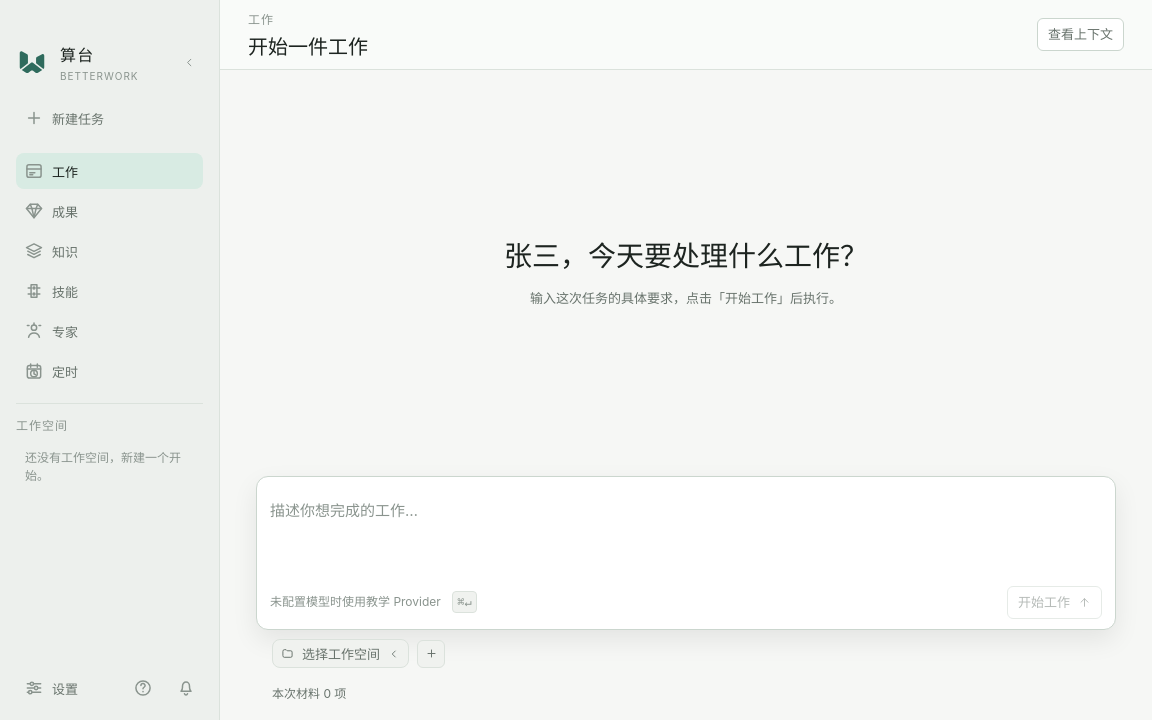
Test: 应用内帮助 › 保留任务草稿与已选技能，阅读手册不启动执行
Click the button "技能" at [110, 291], box [16,273,203,309]
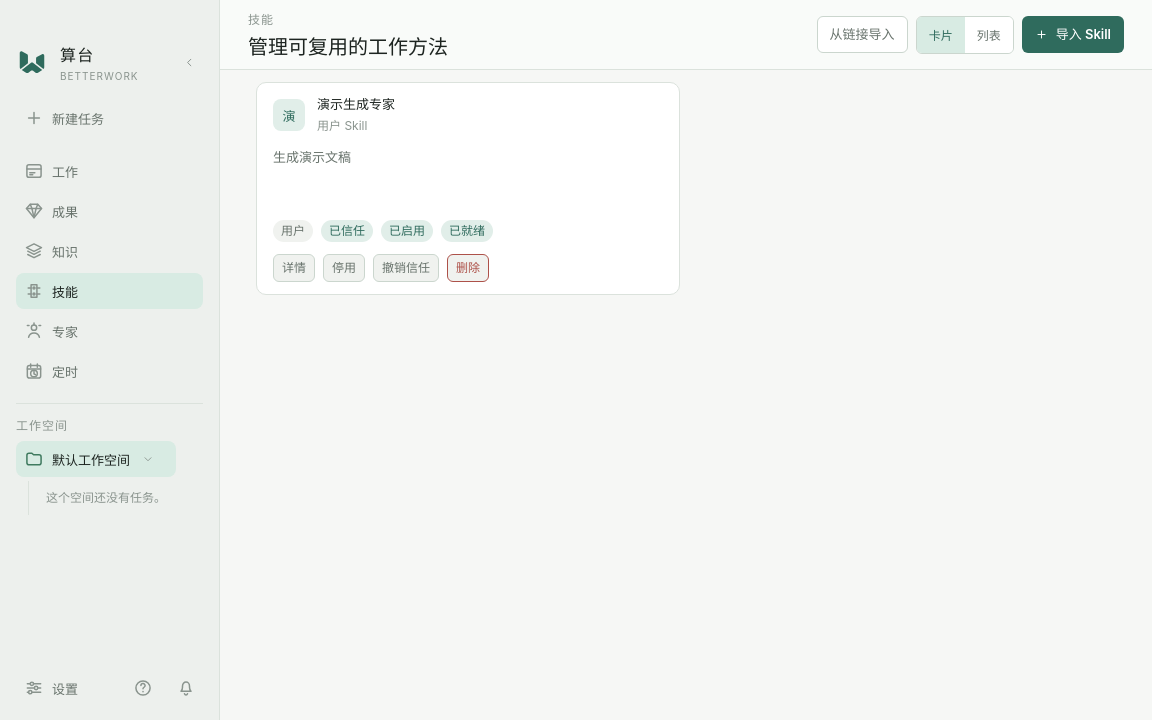
Click the button "演 演示生成专家 用户 Skill 生成演示文稿" at [289, 115], box [273,95,663,208]
(page scrolled)
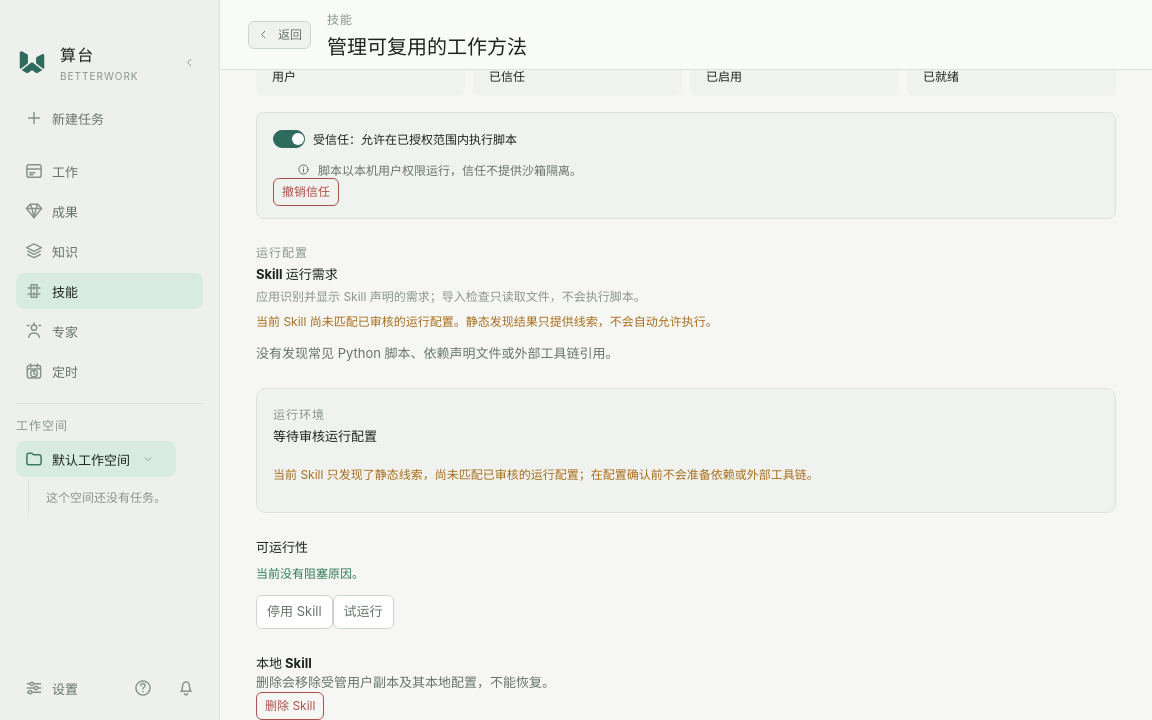
Click the button "试运行" at [363, 612], box [333,595,394,629]
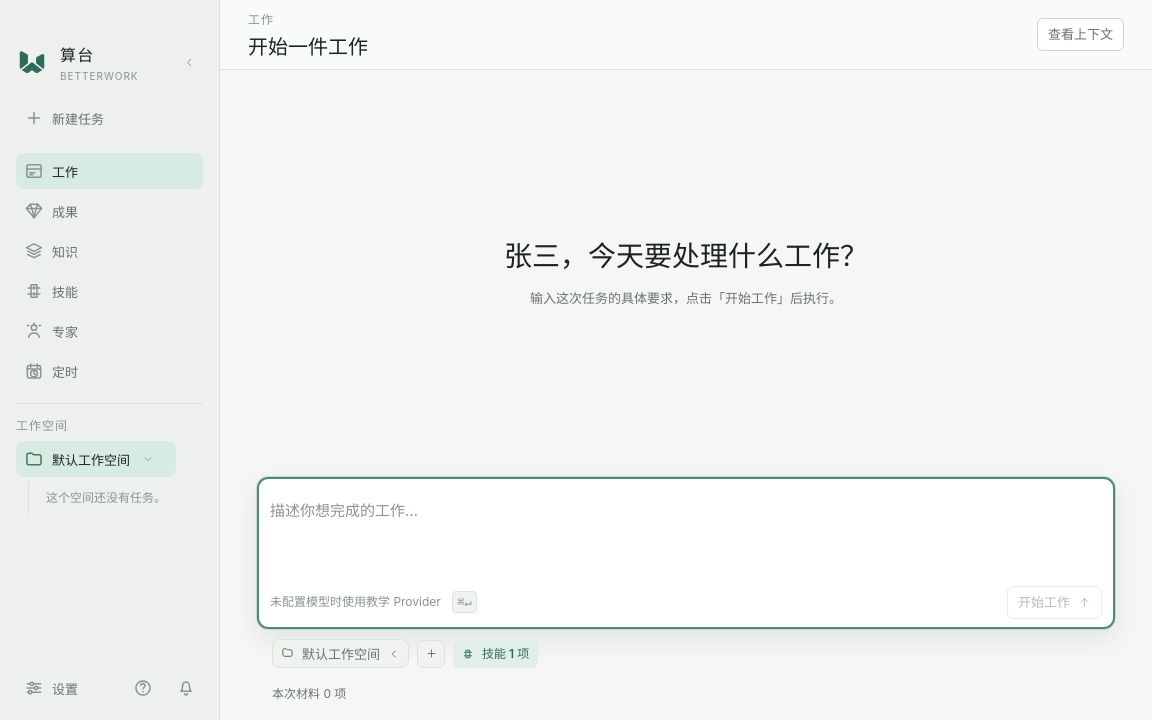
Expected: the button "技能 1 项" is shown, [453,640,538,668]
Type "待继续的任务草稿" into the text box named "任务输入" at [686, 534], box [270,488,1102,582]
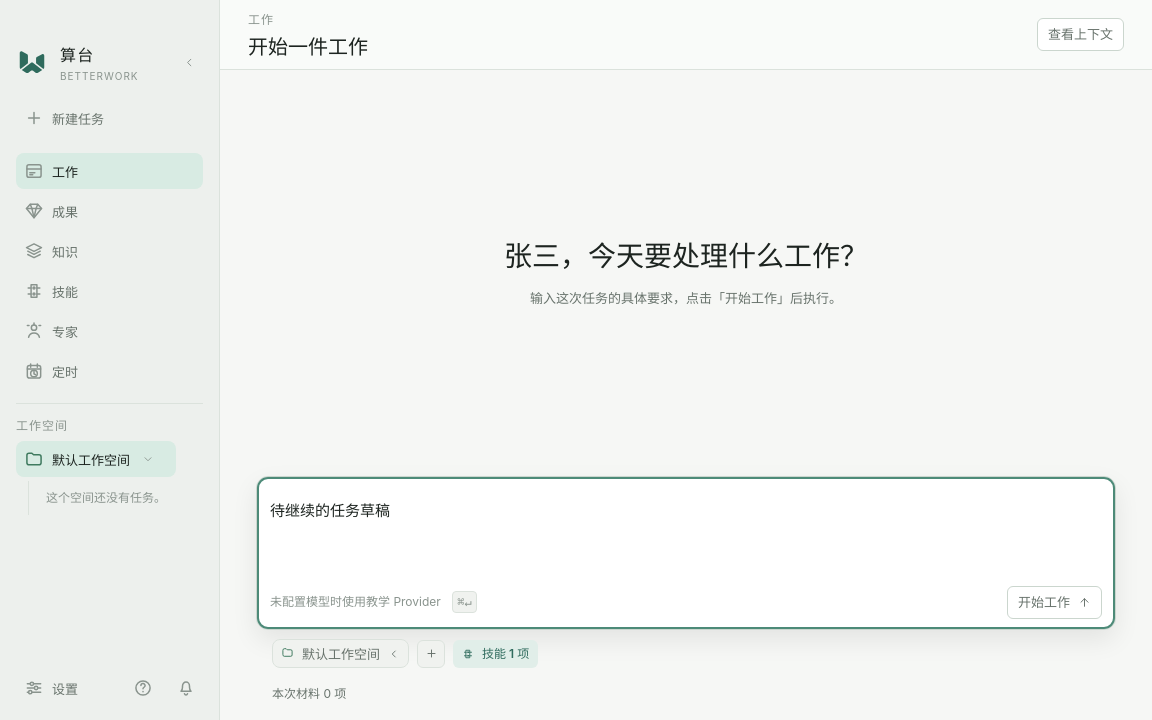
Click the button "帮助" at [143, 688], box [125,670,161,706]
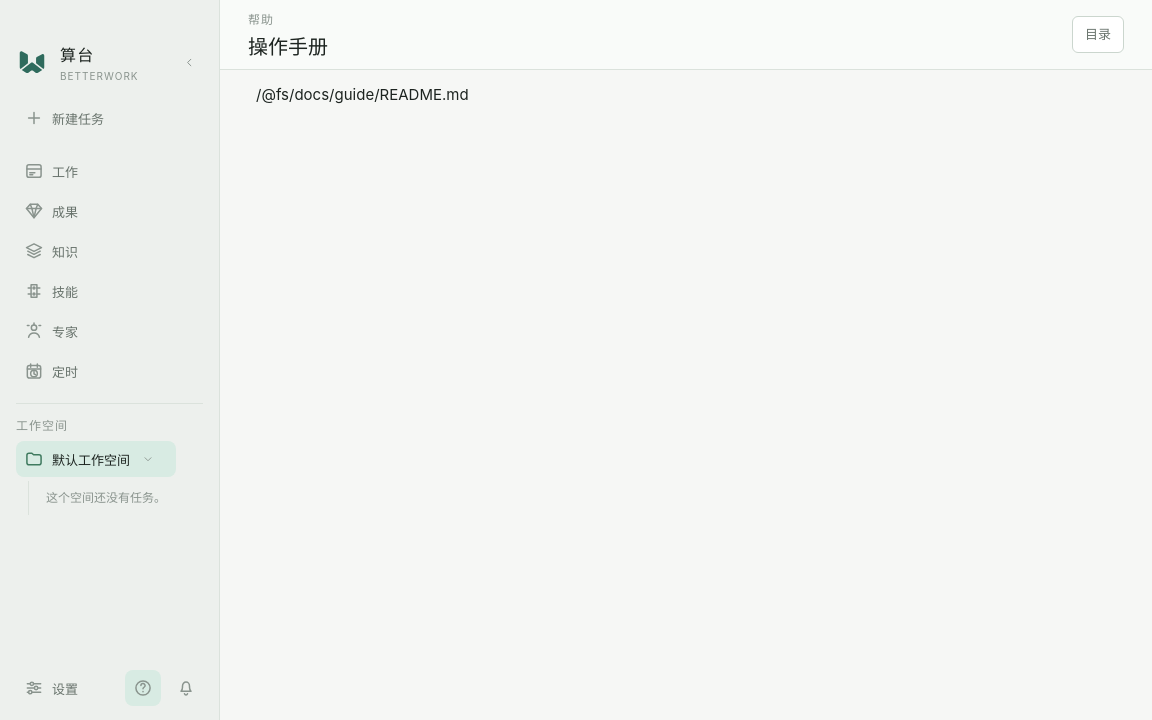
Expected: the heading "操作手册" is shown, [248,30,328,60]
Click the button "工作" at [110, 171], box [16,153,203,189]
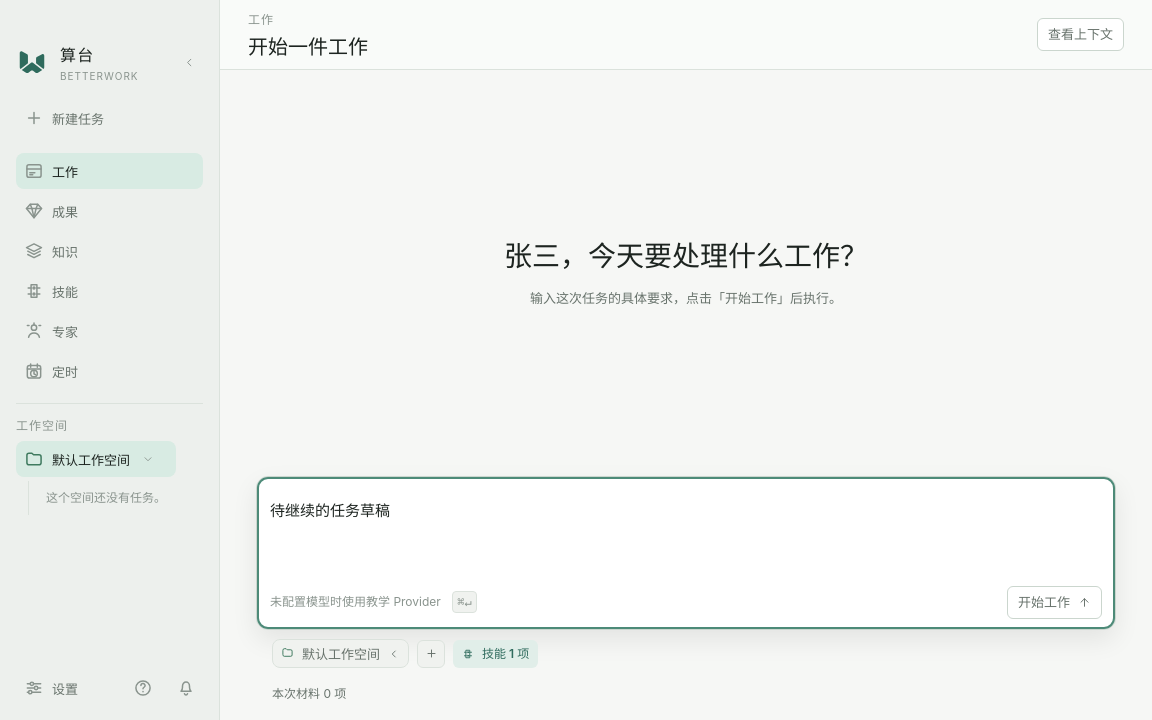
Expected: the text box named "任务输入" holds "待继续的任务草稿", [270,488,1102,582]
Expected: the button "技能 1 项" is shown, [453,640,538,668]
